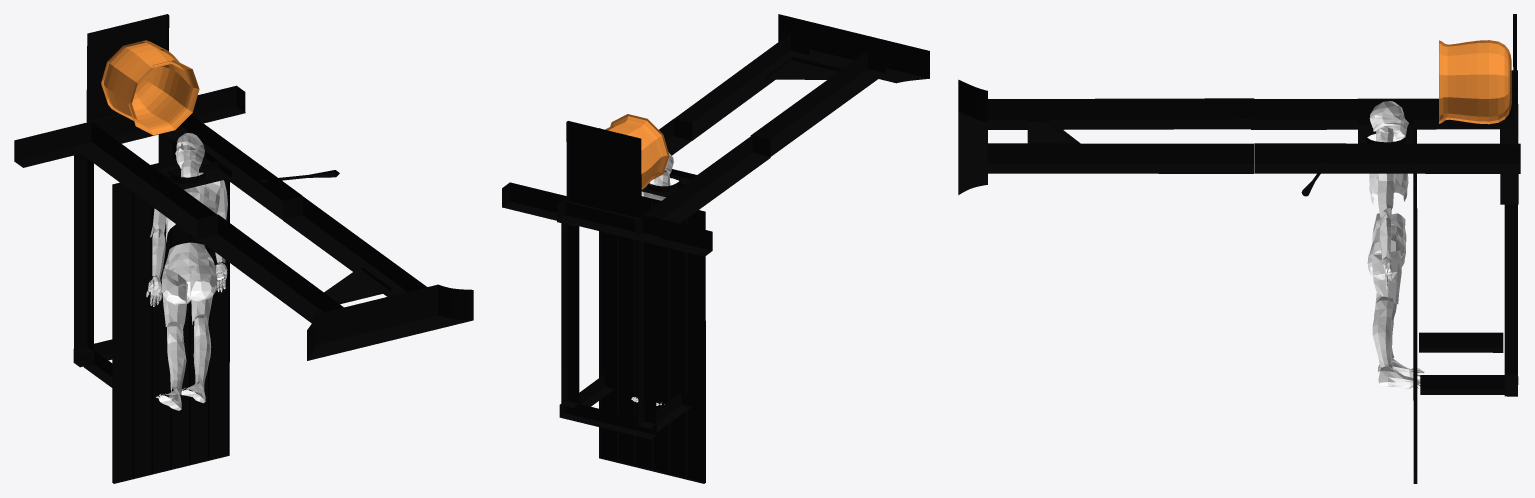
File: GULITIN2.glb
The picture shows the model from 3 angles, left to right: view 1: azimuth 30°, elevation 25°; view 2: azimuth 150°, elevation 25°; view 3: azimuth 270°, elevation 25°; orthographic projection. The views are drawn at different scales.
Visible parts, largest first — view 1: _0; view 2: _0; view 3: _0.
Boxes of the visible parts, x1,y1,x2,y2 form: _0: (14,14,473,483); _0: (502,14,929,483); _0: (958,14,1520,483).
Bounding box in the file's own units: 0.6223 × 1.09 × 1.31.
